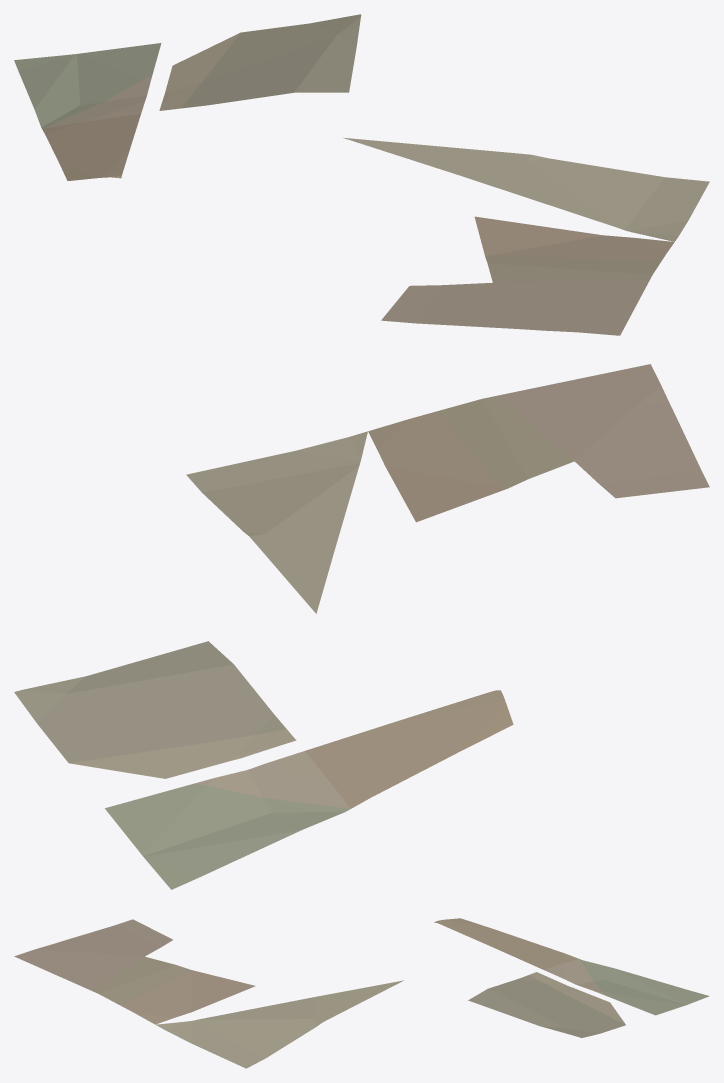
The model's file is farm_-1_-1_soil.glb.
3 renders of one model, top to bottom at view 1: azimuth 30°, elevation 25°; view 2: azimuth 150°, elevation 25°; view 3: azimuth 270°, elevation 25°, orthographic. The views are drawn at different scales.
Parts seen in each view (by area): view 1: geometry_0; view 2: geometry_0; view 3: geometry_0.
Boxes of the visible parts, <box> form: geometry_0: <box>14,14,709,335</box>; geometry_0: <box>14,364,709,889</box>; geometry_0: <box>14,918,709,1068</box>.
Bounding box in the file's own units: 232 × 44.69 × 447.
